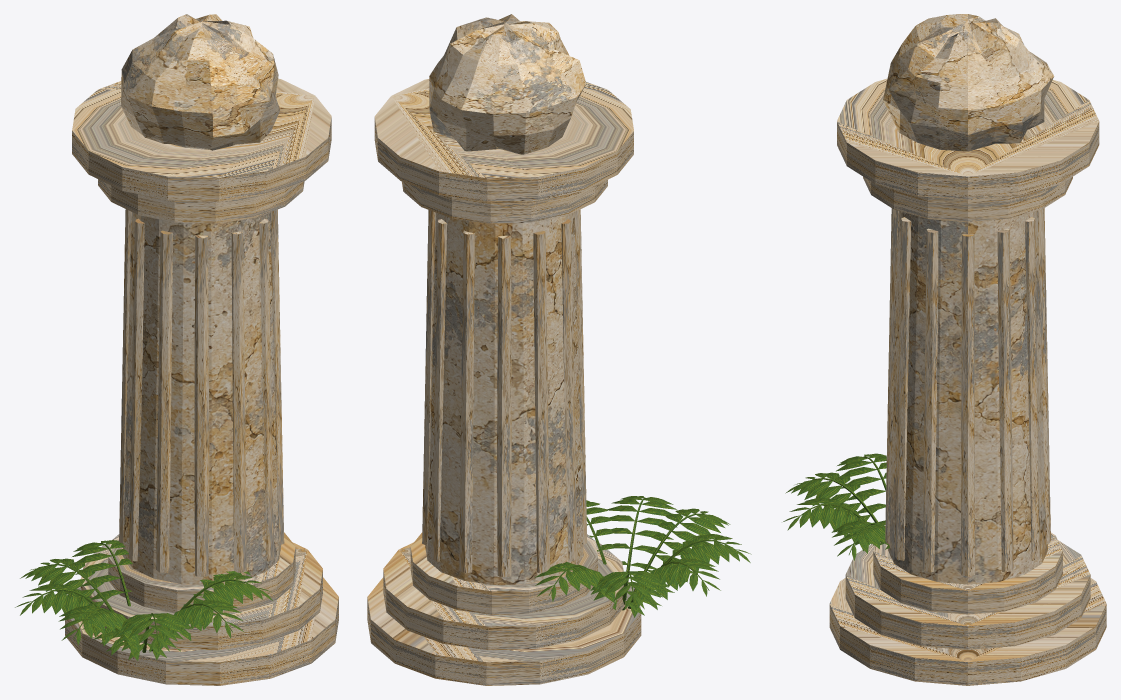
The model's file is TideRelicPillar.fbx.
3 renders of one model, left to right at view 1: azimuth 30°, elevation 25°; view 2: azimuth 150°, elevation 25°; view 3: azimuth 270°, elevation 25°, orthographic.
Parts seen in each view (by area): view 1: TideRelicPillar_LOD0; view 2: TideRelicPillar_LOD0; view 3: TideRelicPillar_LOD0.
Part boxes in pixels (x1,y1,x2,y2): TideRelicPillar_LOD0: [15, 14, 338, 685]; TideRelicPillar_LOD0: [367, 14, 751, 685]; TideRelicPillar_LOD0: [783, 14, 1106, 685].
Size of what is drawn, in the model's own units: 2.54 by 4.6 by 2.23.
